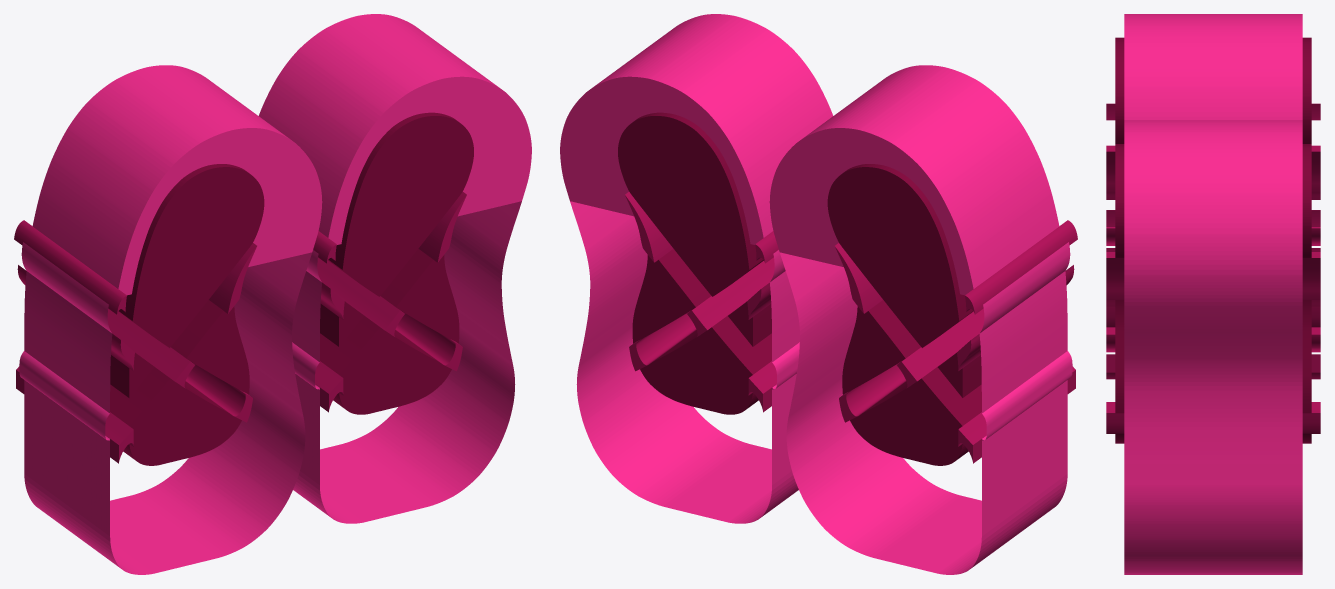
The picture shows the model from 3 angles, left to right: view 1: azimuth 30°, elevation 25°; view 2: azimuth 150°, elevation 25°; view 3: azimuth 270°, elevation 25°; orthographic projection. The views are drawn at different scales.
Visible parts, largest first — view 1: U+1FA70_layer00_obj00, U+1FA70_layer01_obj00, U+1FA70_layer02_obj00; view 2: U+1FA70_layer00_obj00, U+1FA70_layer01_obj00, U+1FA70_layer02_obj00; view 3: U+1FA70_layer00_obj00, U+1FA70_layer01_obj00, U+1FA70_layer02_obj00.
Boxes of the visible parts, box(x1,y1,x2,y2) form: U+1FA70_layer00_obj00: box(19, 14, 531, 574); U+1FA70_layer01_obj00: box(110, 112, 473, 465); U+1FA70_layer02_obj00: box(14, 192, 466, 463); U+1FA70_layer00_obj00: box(560, 14, 1072, 574); U+1FA70_layer01_obj00: box(618, 112, 981, 465); U+1FA70_layer02_obj00: box(625, 192, 1077, 463); U+1FA70_layer00_obj00: box(1124, 14, 1302, 574); U+1FA70_layer01_obj00: box(1115, 37, 1311, 443); U+1FA70_layer02_obj00: box(1106, 103, 1320, 433).
Size of the model in its own units: 0.5741 by 0.5457 by 0.24.
